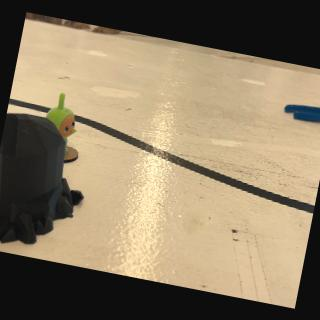teletubby: (45, 93, 76, 154)
